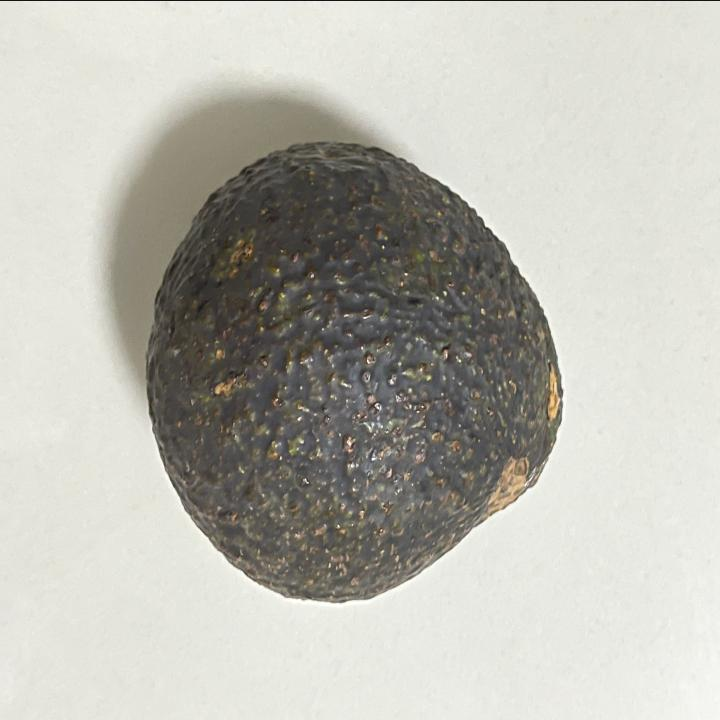Level2: (140, 131, 576, 615)
